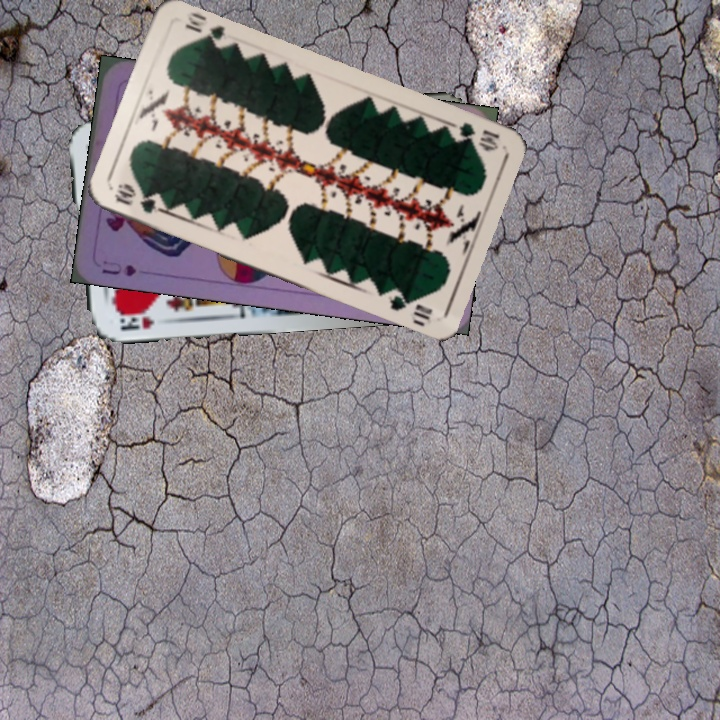G10: (444, 117, 502, 154), (110, 182, 169, 216)
HK: (116, 312, 157, 333)
SU: (97, 256, 139, 279)
